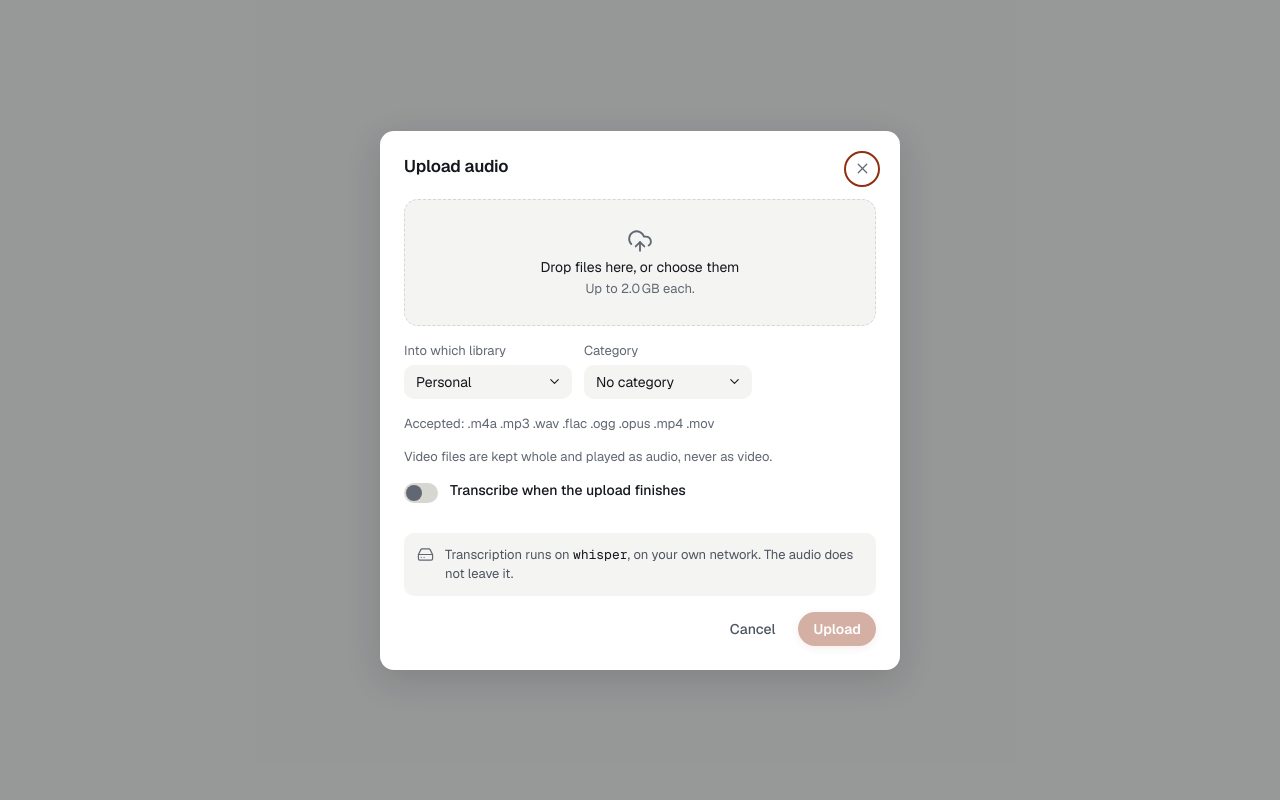
Scenario: the destination › offers only libraries you can add to, since upload needs level 20
Click the dropdown named "into which library" at (488,382), box left=404, top=364, right=572, bottom=398
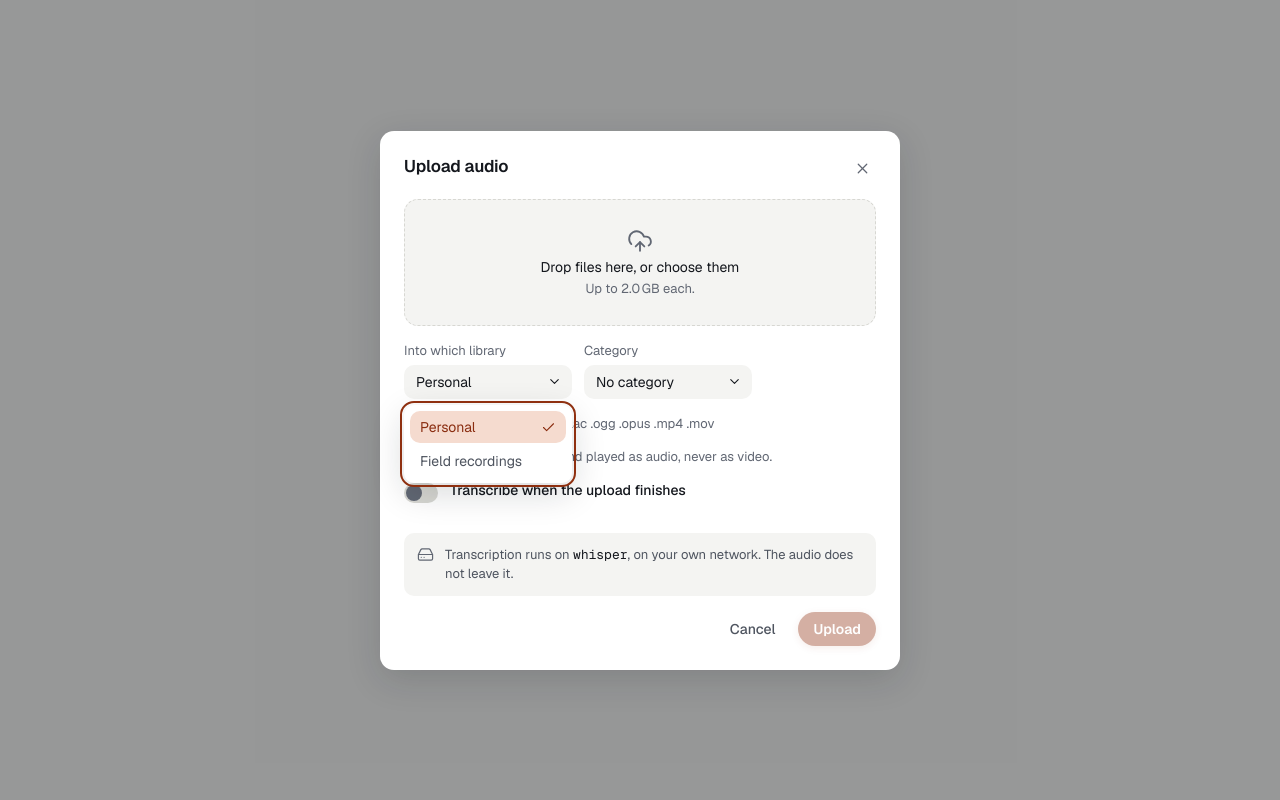
Expected: the option "Personal" is shown, left=410, top=411, right=566, bottom=443
